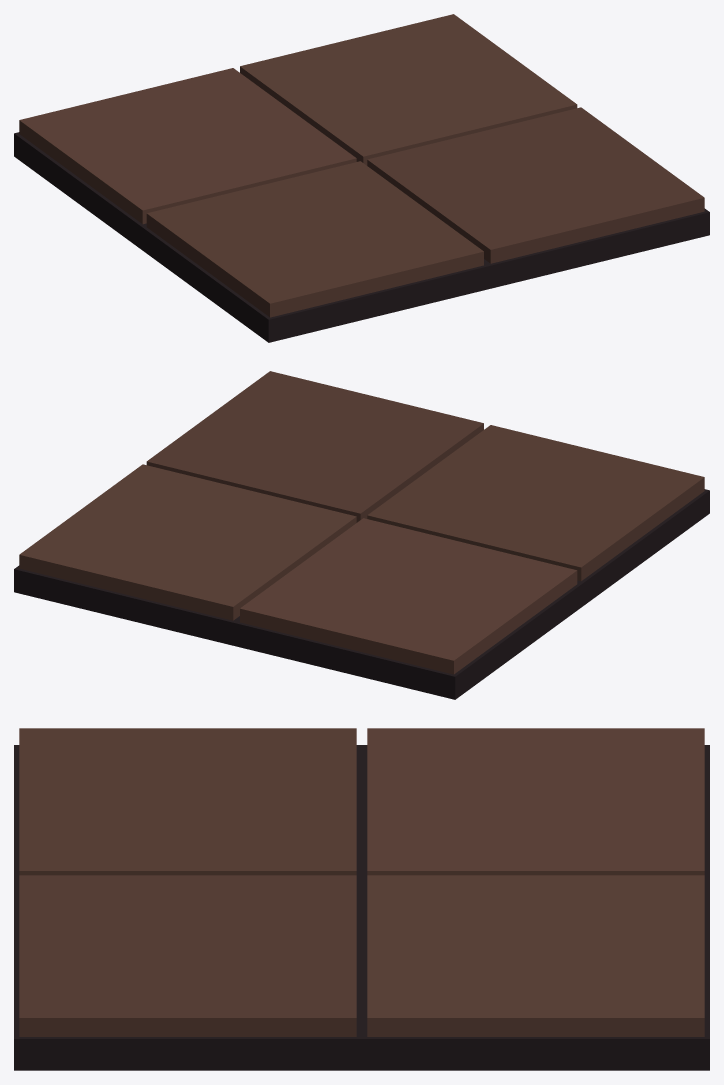
File: floor_4m.glb
The picture shows the model from 3 angles, top to bottom: view 1: azimuth 30°, elevation 25°; view 2: azimuth 150°, elevation 25°; view 3: azimuth 270°, elevation 25°; orthographic projection. The views are drawn at different scales.
Parts seen in each view (by area): view 1: floor_4m; view 2: floor_4m; view 3: floor_4m.
Boxes of the visible parts, <box> form: floor_4m: <box>14,14,709,342</box>; floor_4m: <box>14,371,709,699</box>; floor_4m: <box>14,728,709,1070</box>.
Bounding box in the file's own units: 4 × 0.32 × 4.
